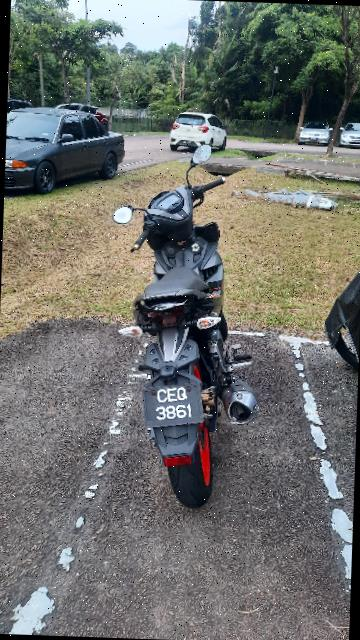License_Plate: (132, 382, 214, 434)
car: (6, 100, 130, 199), (164, 107, 235, 156)
motorcycle: (103, 135, 280, 507)
